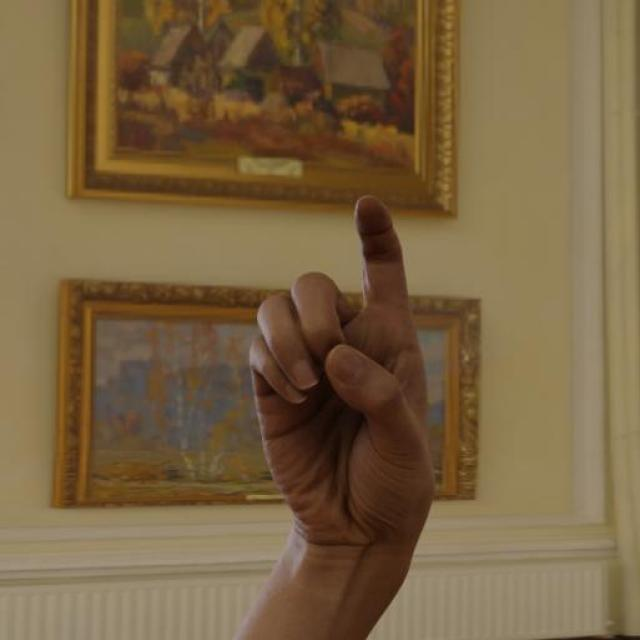X: (244, 190, 453, 590)
